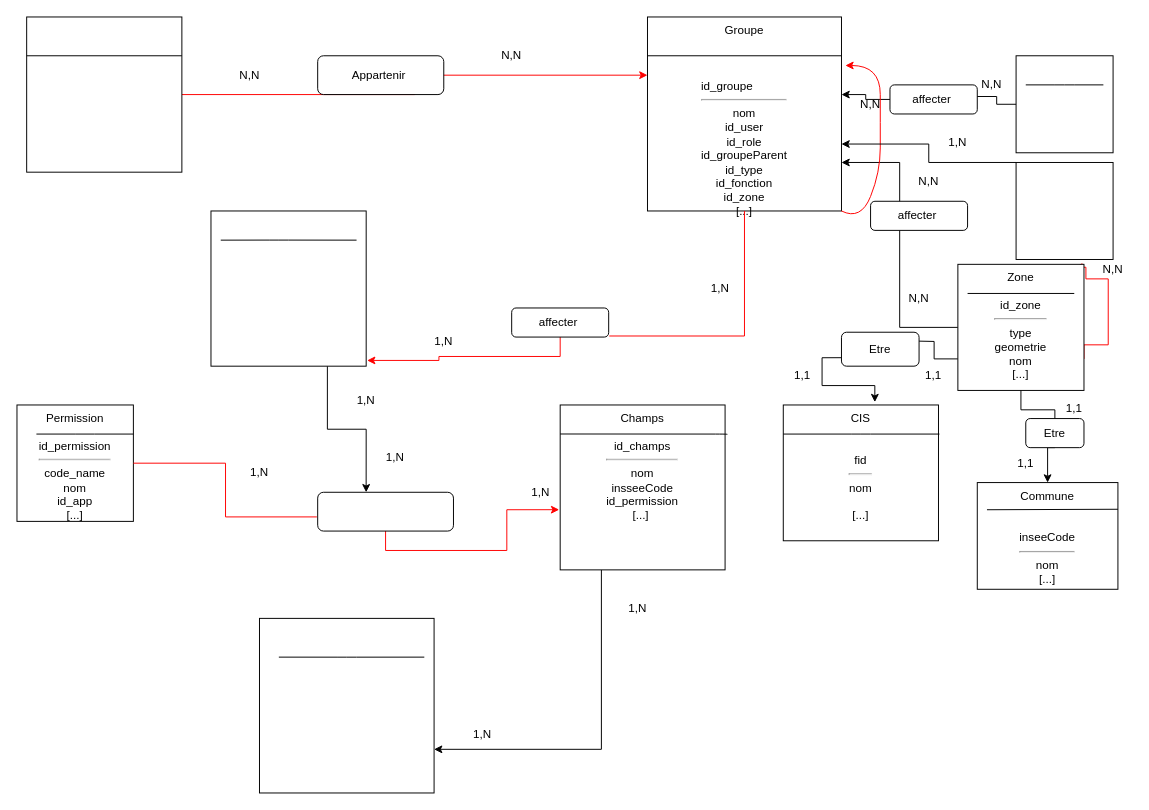
This 1149x810 diagram has some shape labels left out. Each missing label, with the centre of its shape:
App id_app nom id_groupe id_champs id_permission [...]: the point at 346,705
effectué sur: the point at 385,511
Fonction id_fonction nom_fonction [...]: the point at 1064,210
Rôle id_role nom id_permission [...]: the point at 288,288
Type id_type nom_type [...]: the point at 1064,104
User id_user nom id_groupe [...]: the point at 104,94
